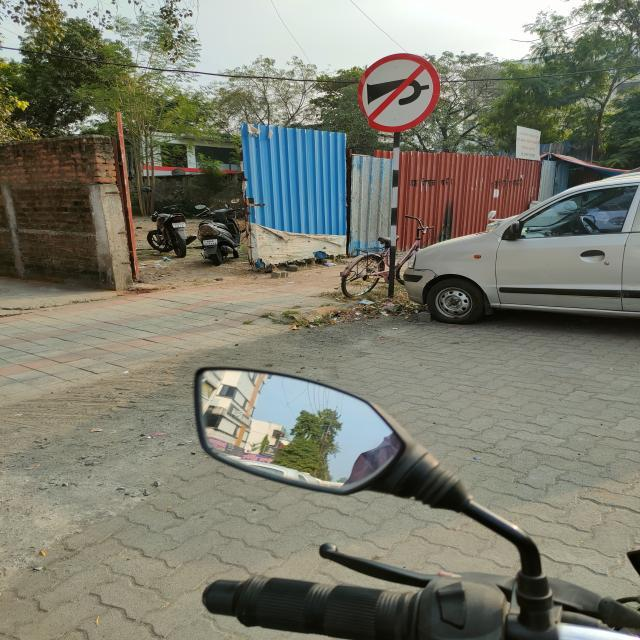horn prohibited: (355, 52, 445, 132)
